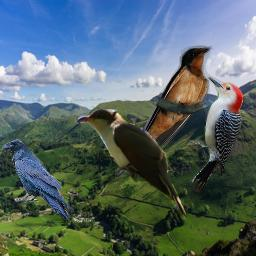Crow: (1, 139, 74, 218)
Cuckoo: (74, 109, 186, 220)
Swallow: (112, 44, 213, 176)
Woodpecker: (189, 76, 243, 192)
